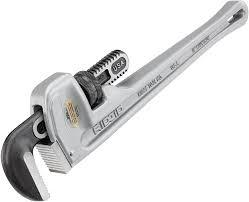wrench: (0, 0, 248, 200)
